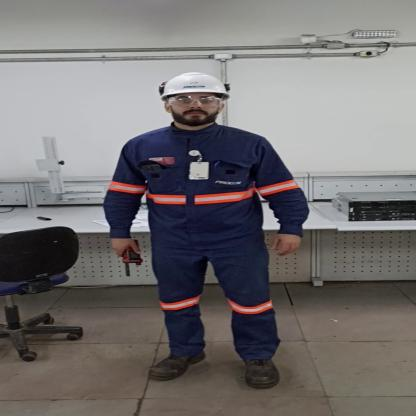Capacete: (155, 71, 234, 100)
